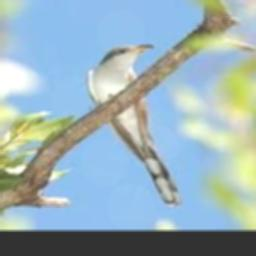Cuckoo: (86, 43, 180, 207)
